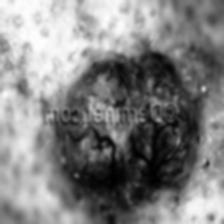Potentially Malignant Skin Tumors: (60, 124, 200, 205), (56, 40, 204, 108)
